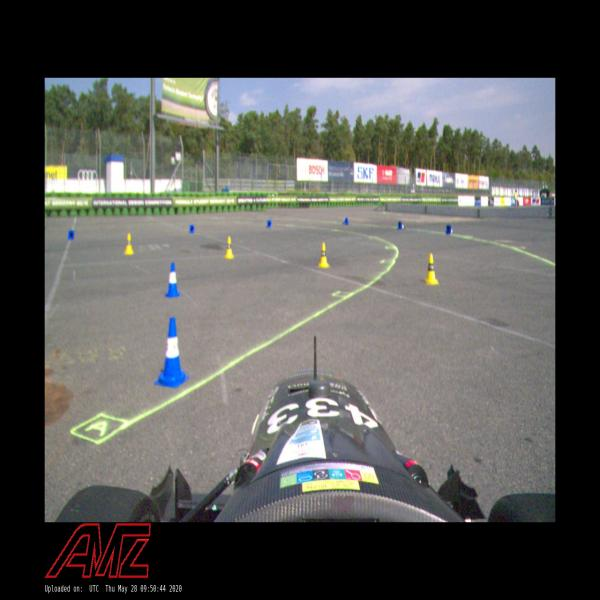blue_cone: (154, 318, 190, 389), (164, 262, 182, 299), (446, 224, 454, 235), (67, 230, 75, 240), (398, 221, 406, 230), (188, 223, 194, 234), (342, 217, 349, 226), (266, 219, 272, 229)
yellow_cone: (424, 252, 439, 286), (317, 243, 330, 268), (224, 235, 235, 260), (124, 233, 134, 255)
